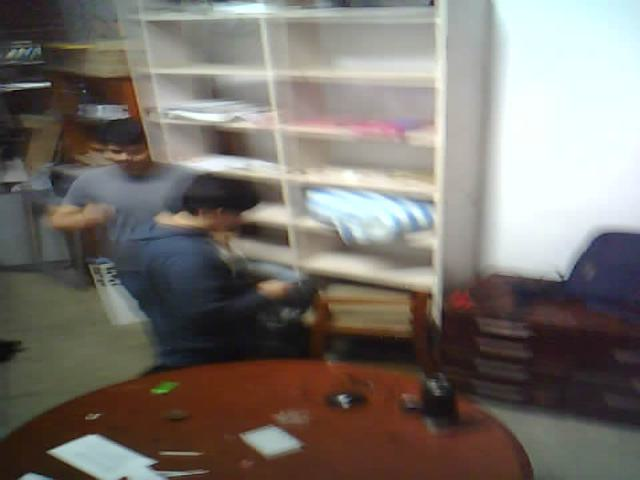person: (92, 176, 342, 380), (27, 96, 222, 265)
